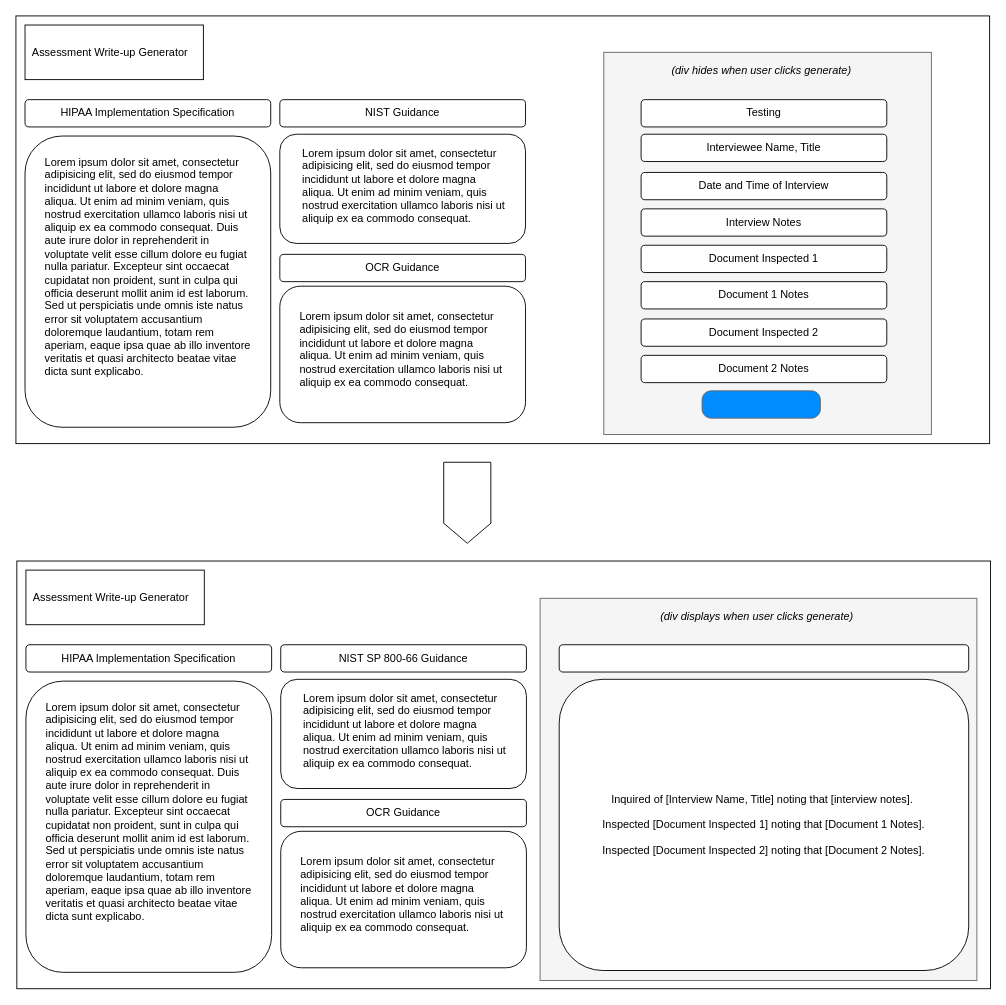
The diagram is 1006 pixels wide and 1005 high, and some of its shapes have lost their labels. Here are the shapes that lost their labels. From the top down, the centre of each, then its label:
At point (760, 404): "Generate".
At point (763, 658): "Starter Writeup".
